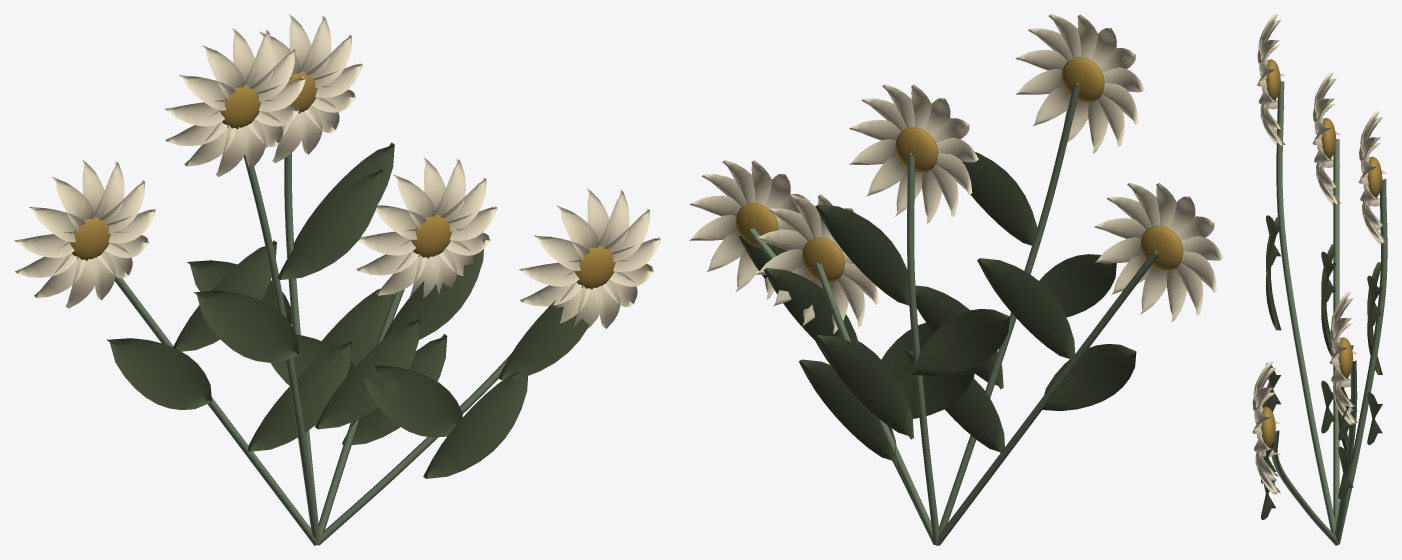
File: atelier-botanical.glb
3 renders of one model, left to right at view 1: azimuth 30°, elevation 25°; view 2: azimuth 150°, elevation 25°; view 3: azimuth 270°, elevation 25°, orthographic. The views are drawn at different scales.
Visible parts, largest first — view 1: atelier-botanical-leaves, atelier-daisy-petals, atelier-botanical-stems, atelier-daisy-centers; view 2: atelier-botanical-leaves, atelier-daisy-petals, atelier-botanical-stems, atelier-daisy-centers; view 3: atelier-botanical-stems, atelier-daisy-petals, atelier-botanical-leaves, atelier-daisy-centers.
Part boxes in pixels (x1,y1,x2,y2): atelier-botanical-leaves: [107, 142, 589, 478]; atelier-daisy-petals: [14, 14, 660, 328]; atelier-botanical-stems: [114, 153, 549, 545]; atelier-daisy-centers: [70, 71, 615, 289]; atelier-botanical-leaves: [739, 152, 1136, 464]; atelier-daisy-petals: [689, 14, 1223, 333]; atelier-botanical-stems: [748, 84, 1158, 545]; atelier-daisy-centers: [735, 57, 1183, 282]; atelier-botanical-stems: [1271, 81, 1387, 545]; atelier-daisy-petals: [1252, 14, 1386, 494]; atelier-botanical-leaves: [1261, 215, 1382, 519]; atelier-daisy-centers: [1256, 59, 1382, 447].
Size of the model in its own units: 0.6728 by 0.6048 by 0.1555.
